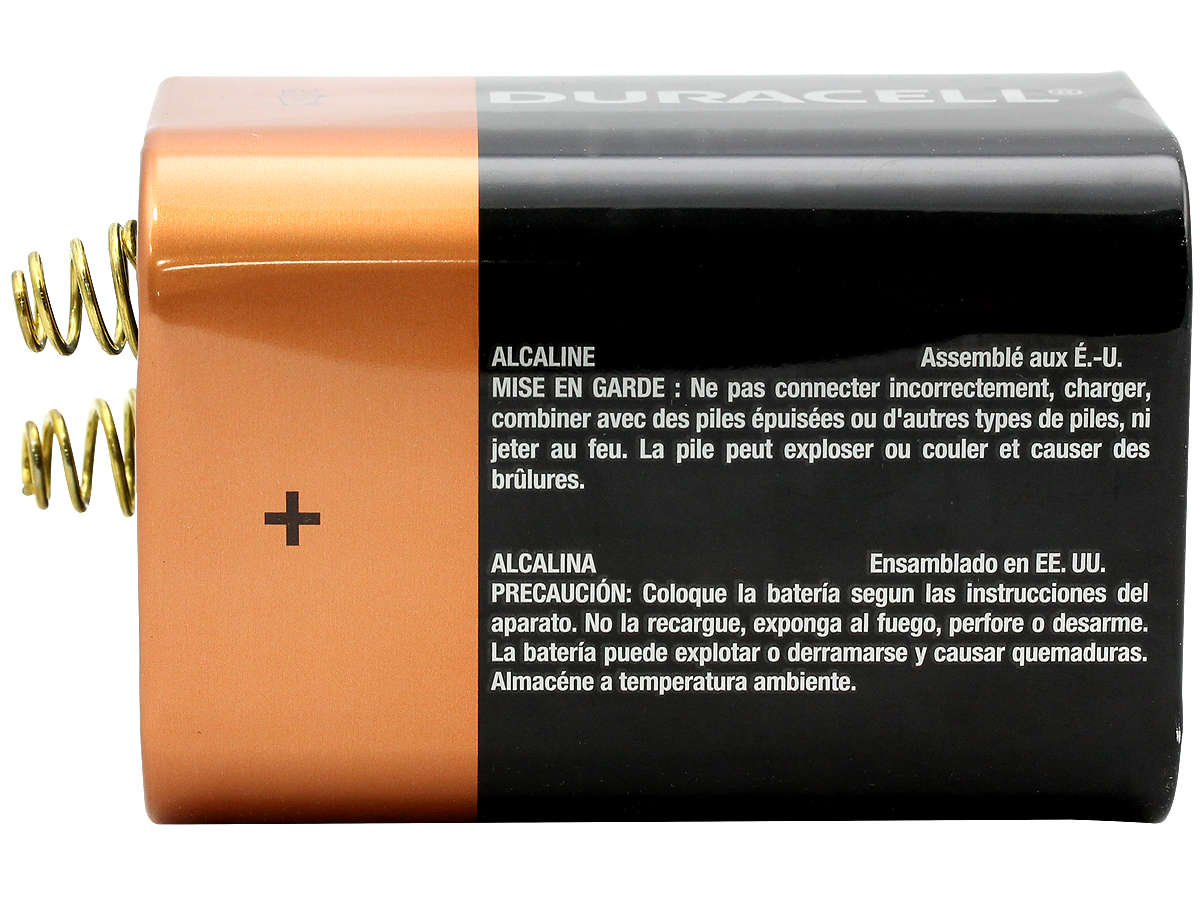6V: (22, 32, 1184, 839)
